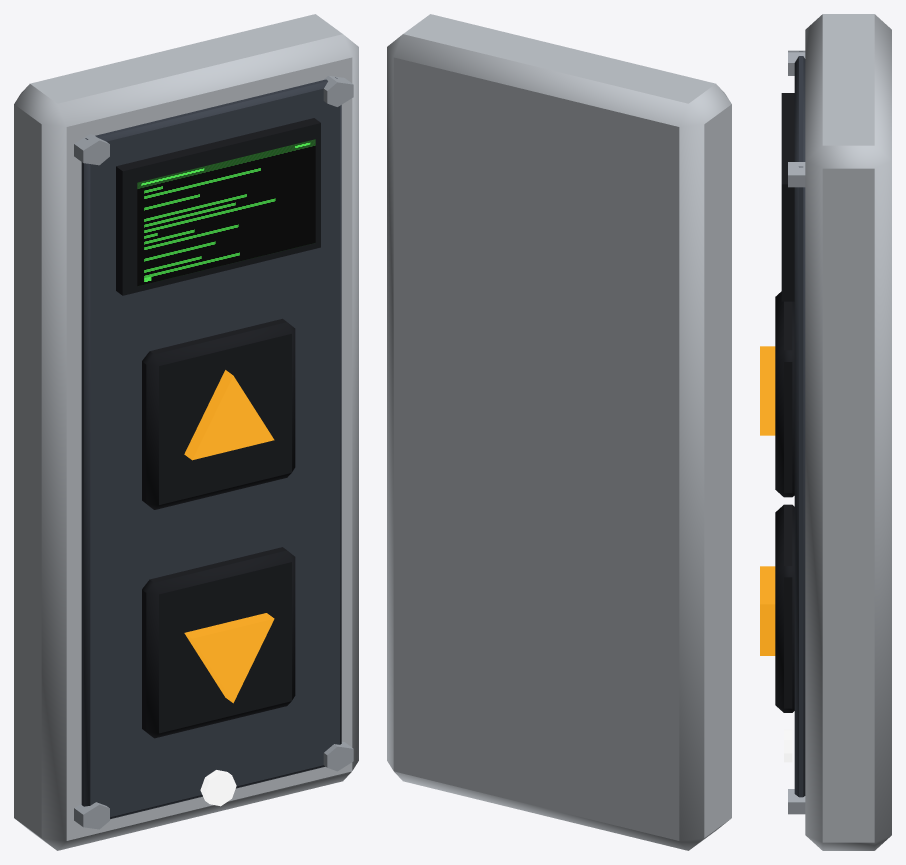
The model's file is controlpanel_lift_call.glb.
3 renders of one model, left to right at view 1: azimuth 30°, elevation 25°; view 2: azimuth 150°, elevation 25°; view 3: azimuth 270°, elevation 25°, orthographic. The views are drawn at different scales.
Parts seen in each view (by area): view 1: controlpanel_lift_call; view 2: controlpanel_lift_call; view 3: controlpanel_lift_call.
Part boxes in pixels (x1,y1,x2,y2): controlpanel_lift_call: (14,14,358,850); controlpanel_lift_call: (387,14,731,850); controlpanel_lift_call: (760,14,891,850).
Size of the model in its own units: 0.16 by 0.36 by 0.061.
Materials: 7 (1 with a texture image).
